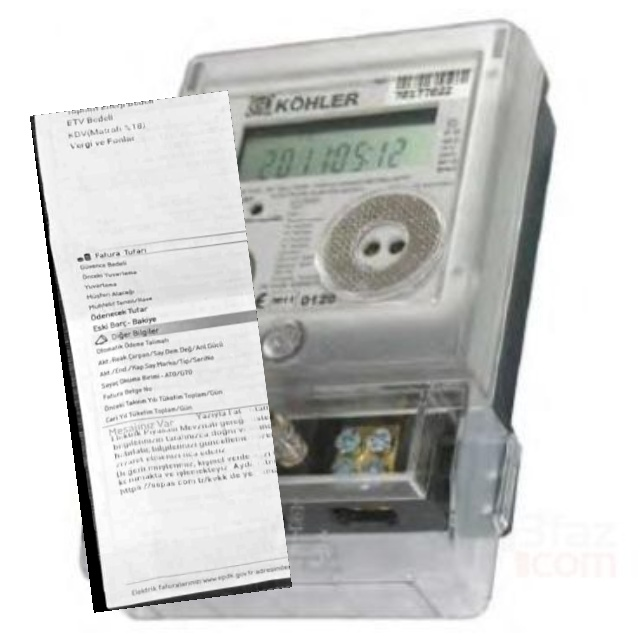electricity-bill: (29, 90, 291, 613)
